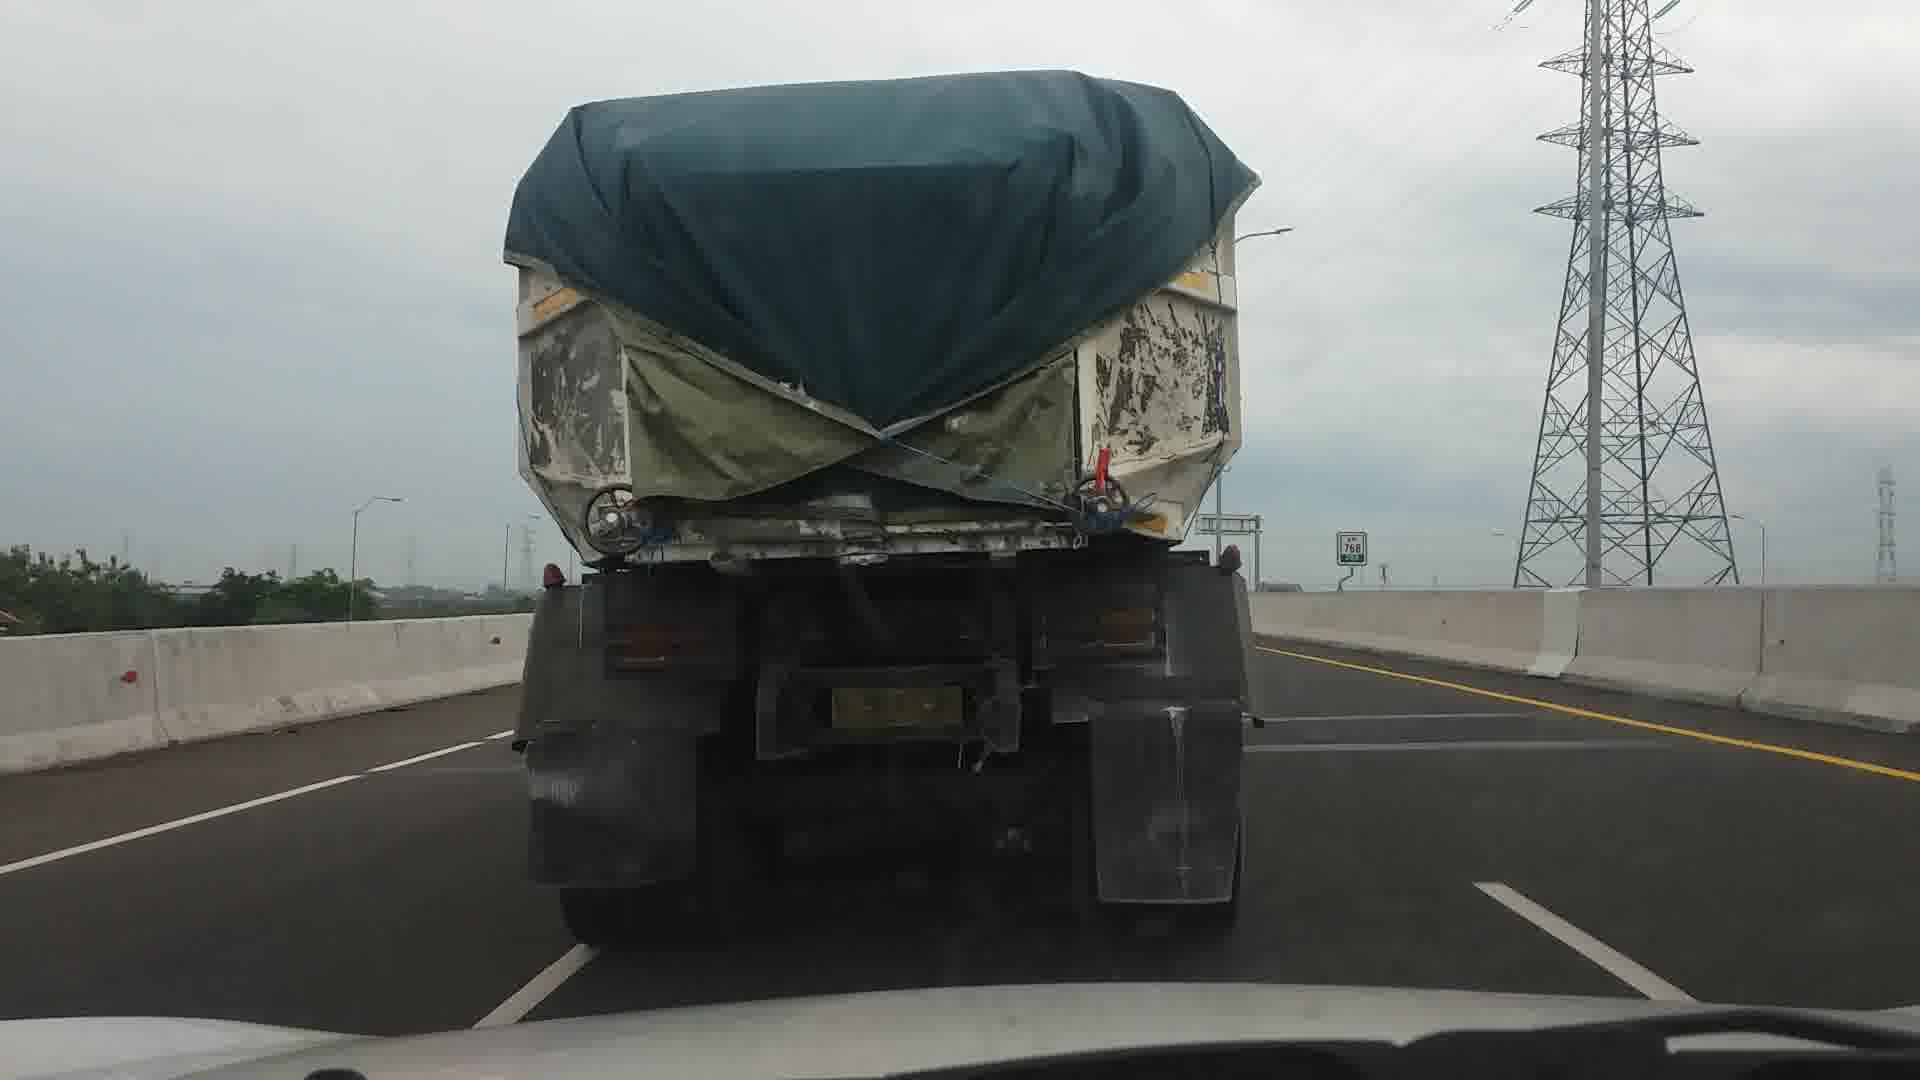plate_positive: (831, 686, 963, 727)
